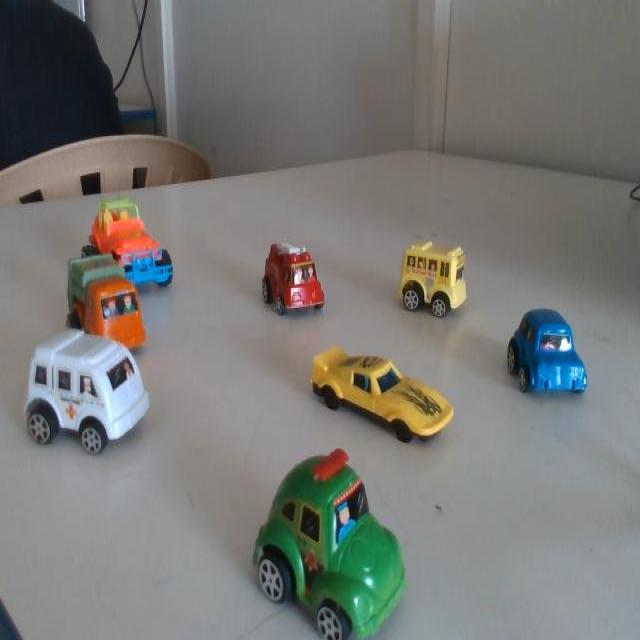car: (261, 454, 413, 636), (29, 309, 166, 479), (322, 336, 447, 451), (103, 192, 181, 291), (392, 236, 474, 330), (515, 306, 591, 406), (254, 230, 324, 330), (76, 245, 139, 355)
